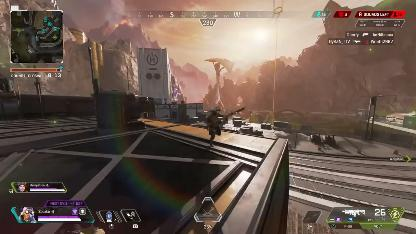Target: (207, 108, 224, 146)
